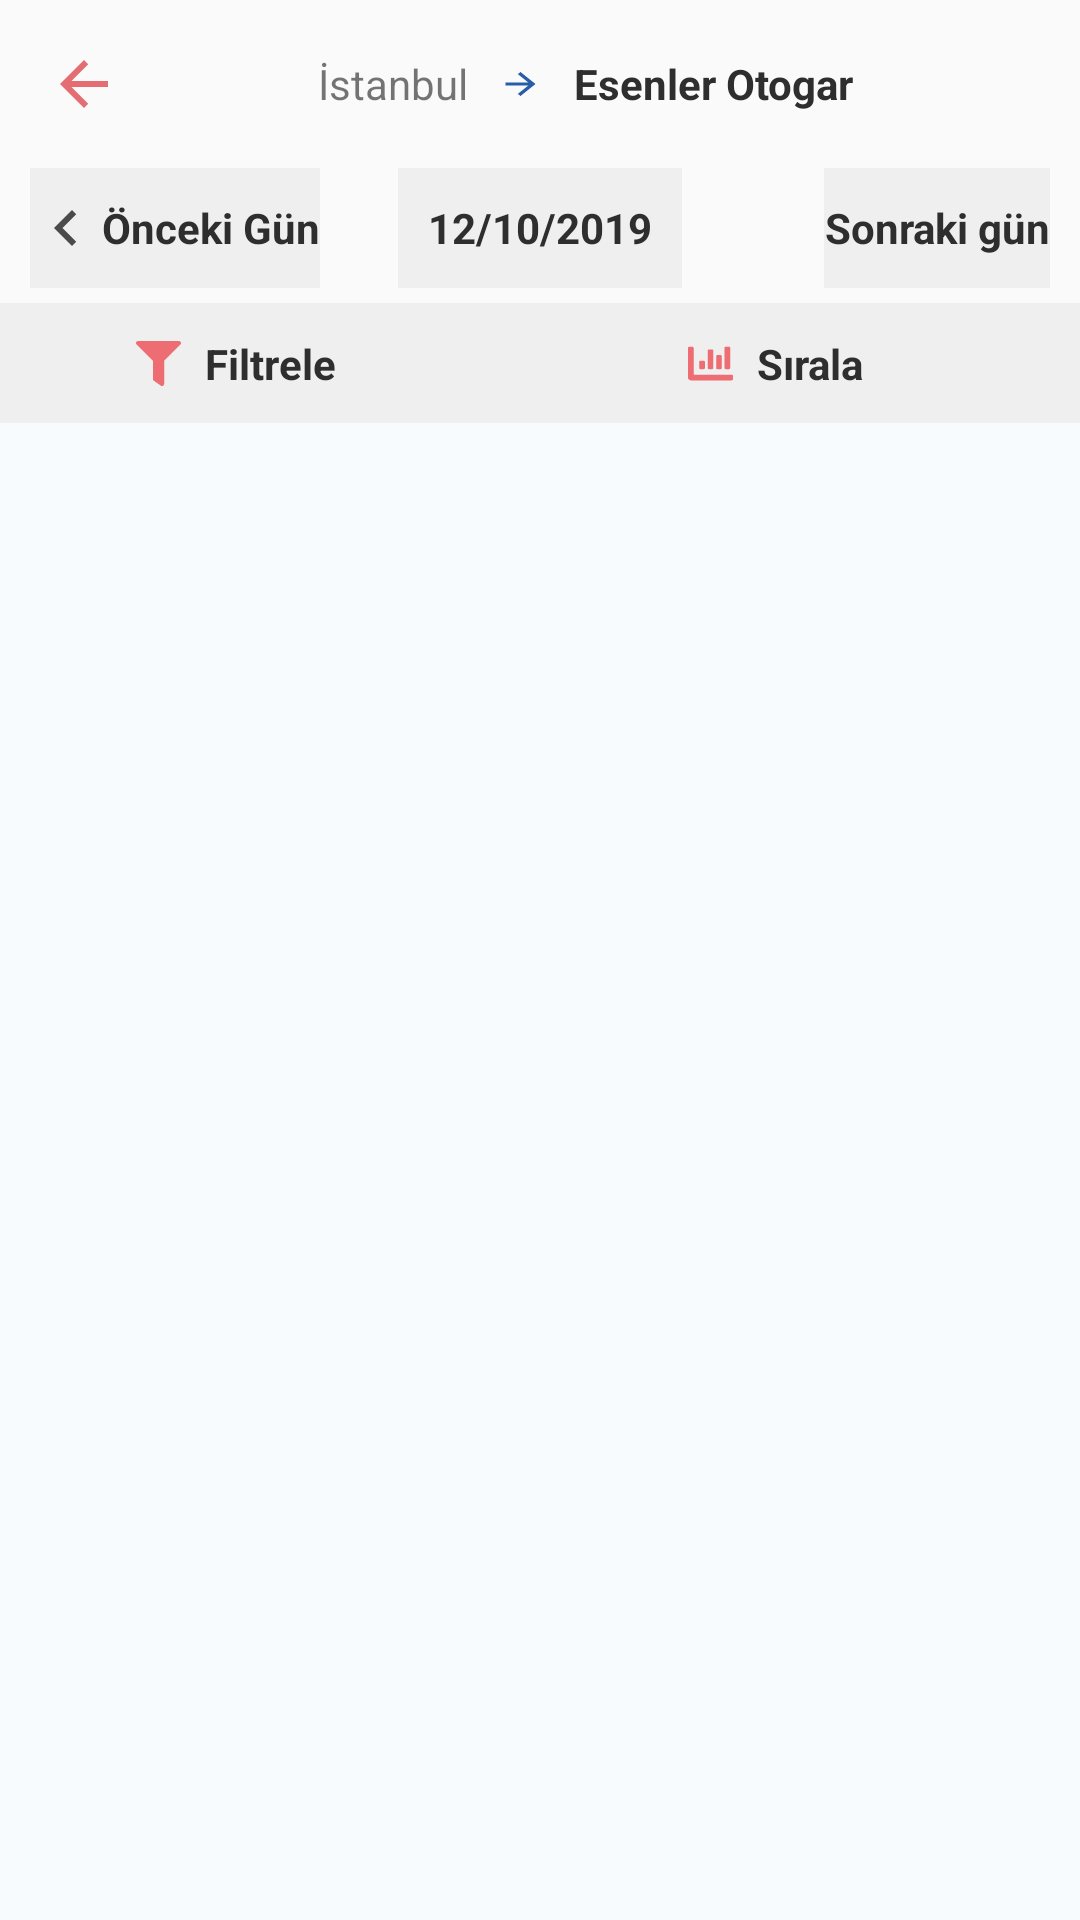

Icon click points for this 1080px×1920px phone screenshot, format [x,y]:
arrow: [520,84]
back melon: [84,84]
filter melon: [158,363]
previous day: [65,228]
price chart: [710,363]
